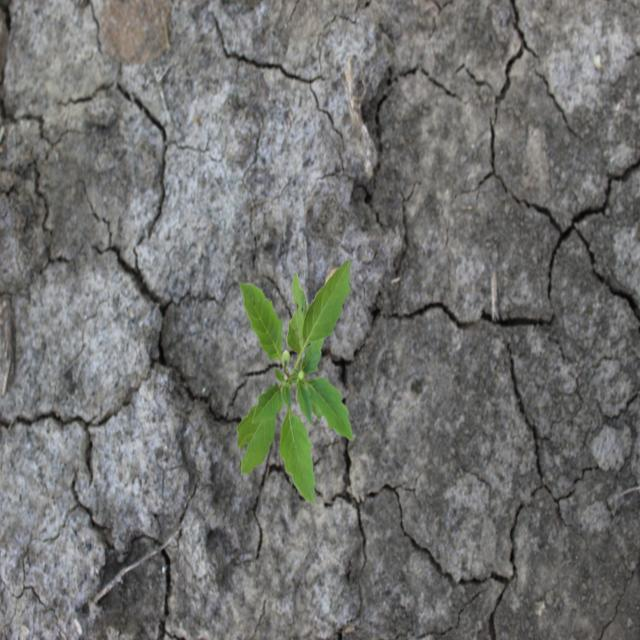CutleafGroundcherry: (234, 256, 356, 510)
